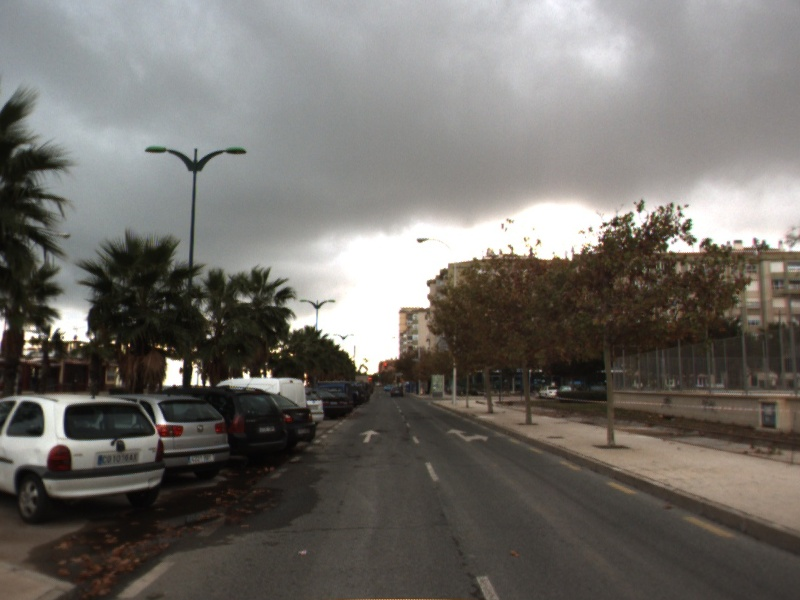STRAIGHT: (358, 428, 382, 444)
STRAIGHT_RIGHT: (445, 427, 491, 443)
